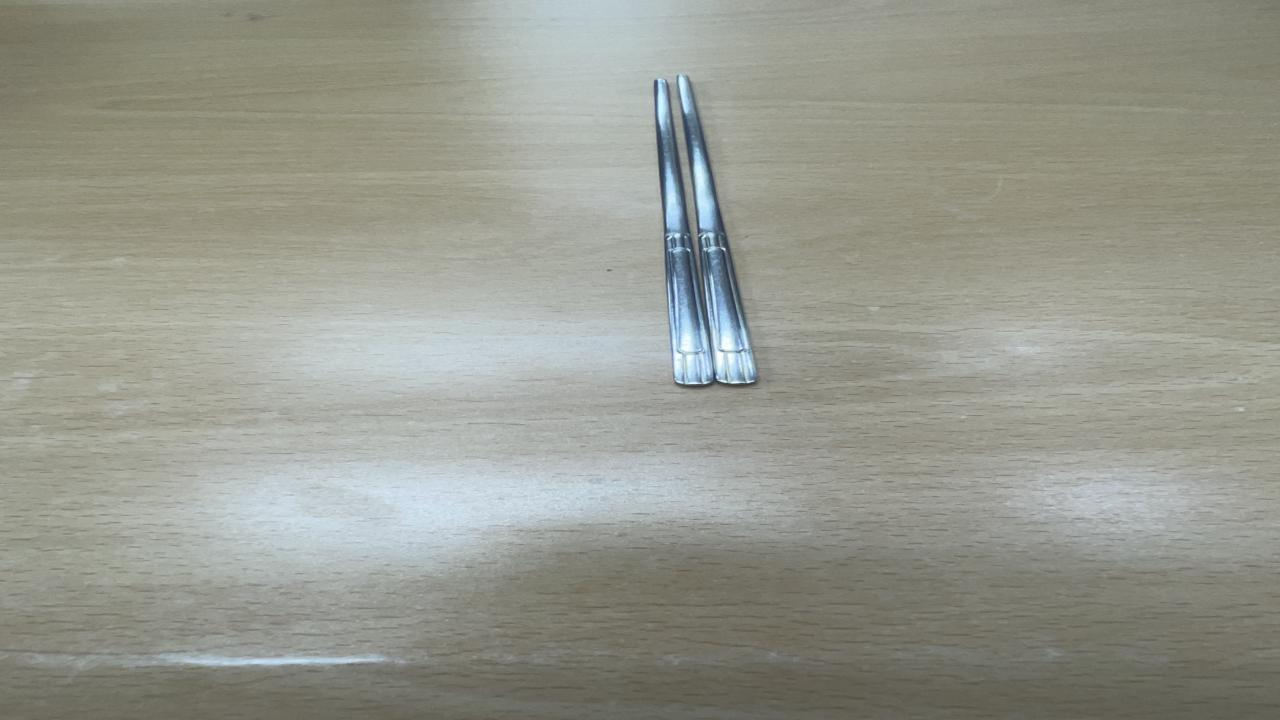chopstick: (637, 72, 766, 392)
